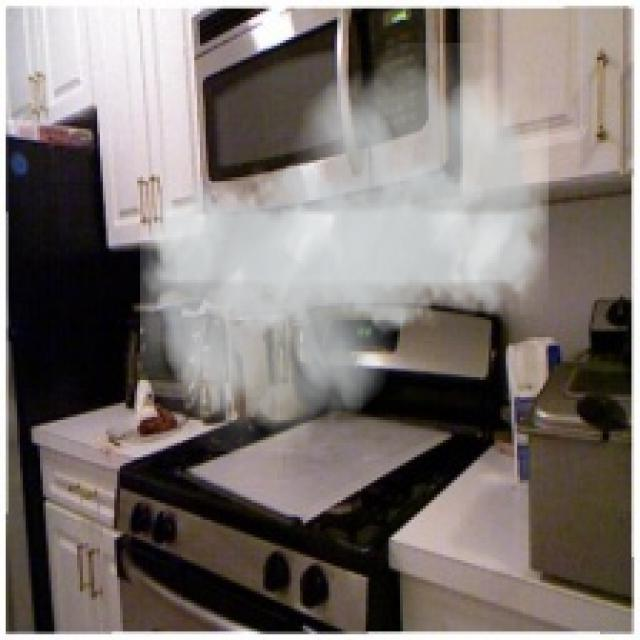Smoke: (140, 42, 549, 452)
